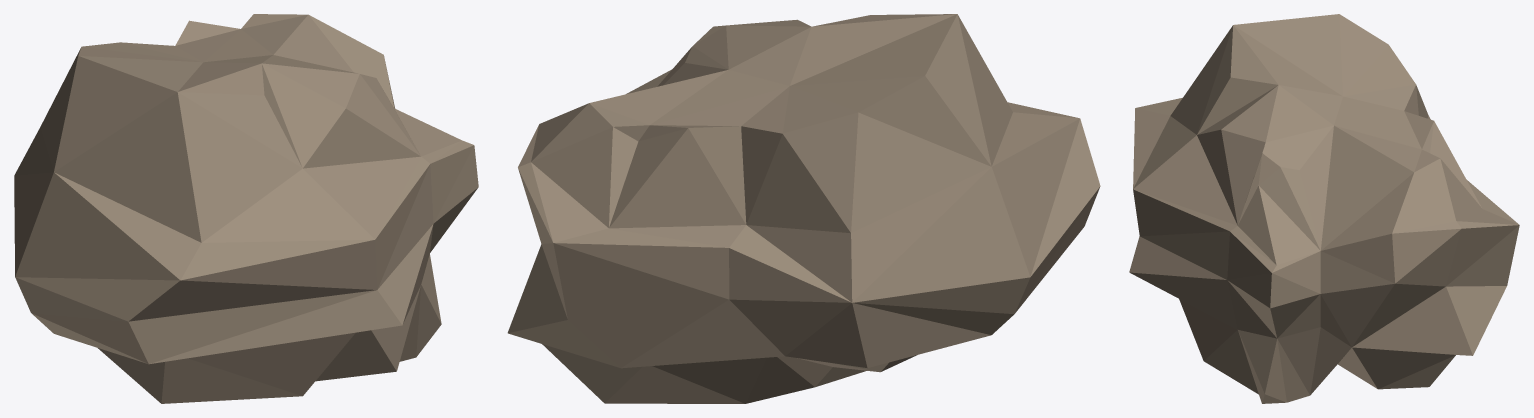
The model's file is SM_Env_Rock_012.fbx.
3 renders of one model, left to right at view 1: azimuth 30°, elevation 25°; view 2: azimuth 150°, elevation 25°; view 3: azimuth 270°, elevation 25°, orthographic. The views are drawn at different scales.
Visible parts, largest first — view 1: SM_Env_Rock_012; view 2: SM_Env_Rock_012; view 3: SM_Env_Rock_012.
Boxes of the visible parts, x1,y1,x2,y2 form: SM_Env_Rock_012: (14,14,478,403); SM_Env_Rock_012: (507,14,1100,403); SM_Env_Rock_012: (1129,14,1519,403).
Bounding box in the file's own units: 0.0245 × 0.0181 × 0.0231.
1 material, 1 textured.
